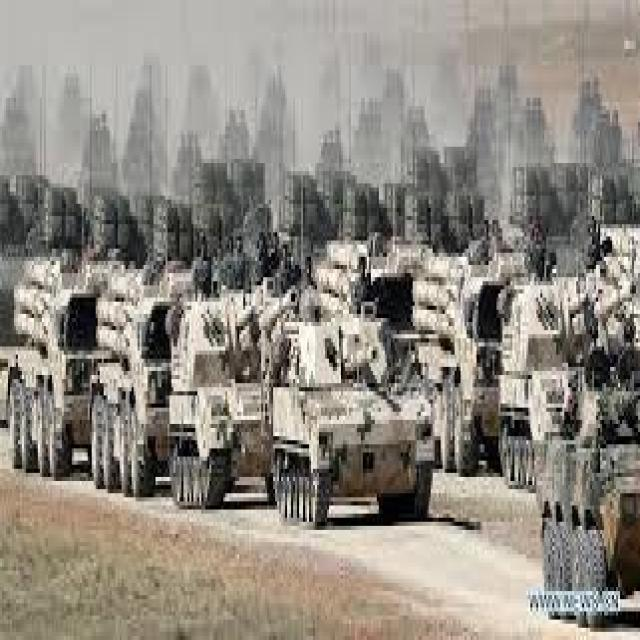Tanks: (254, 255, 432, 573), (153, 261, 270, 550), (8, 210, 110, 491), (502, 248, 578, 624), (418, 224, 509, 534), (82, 242, 179, 528)
